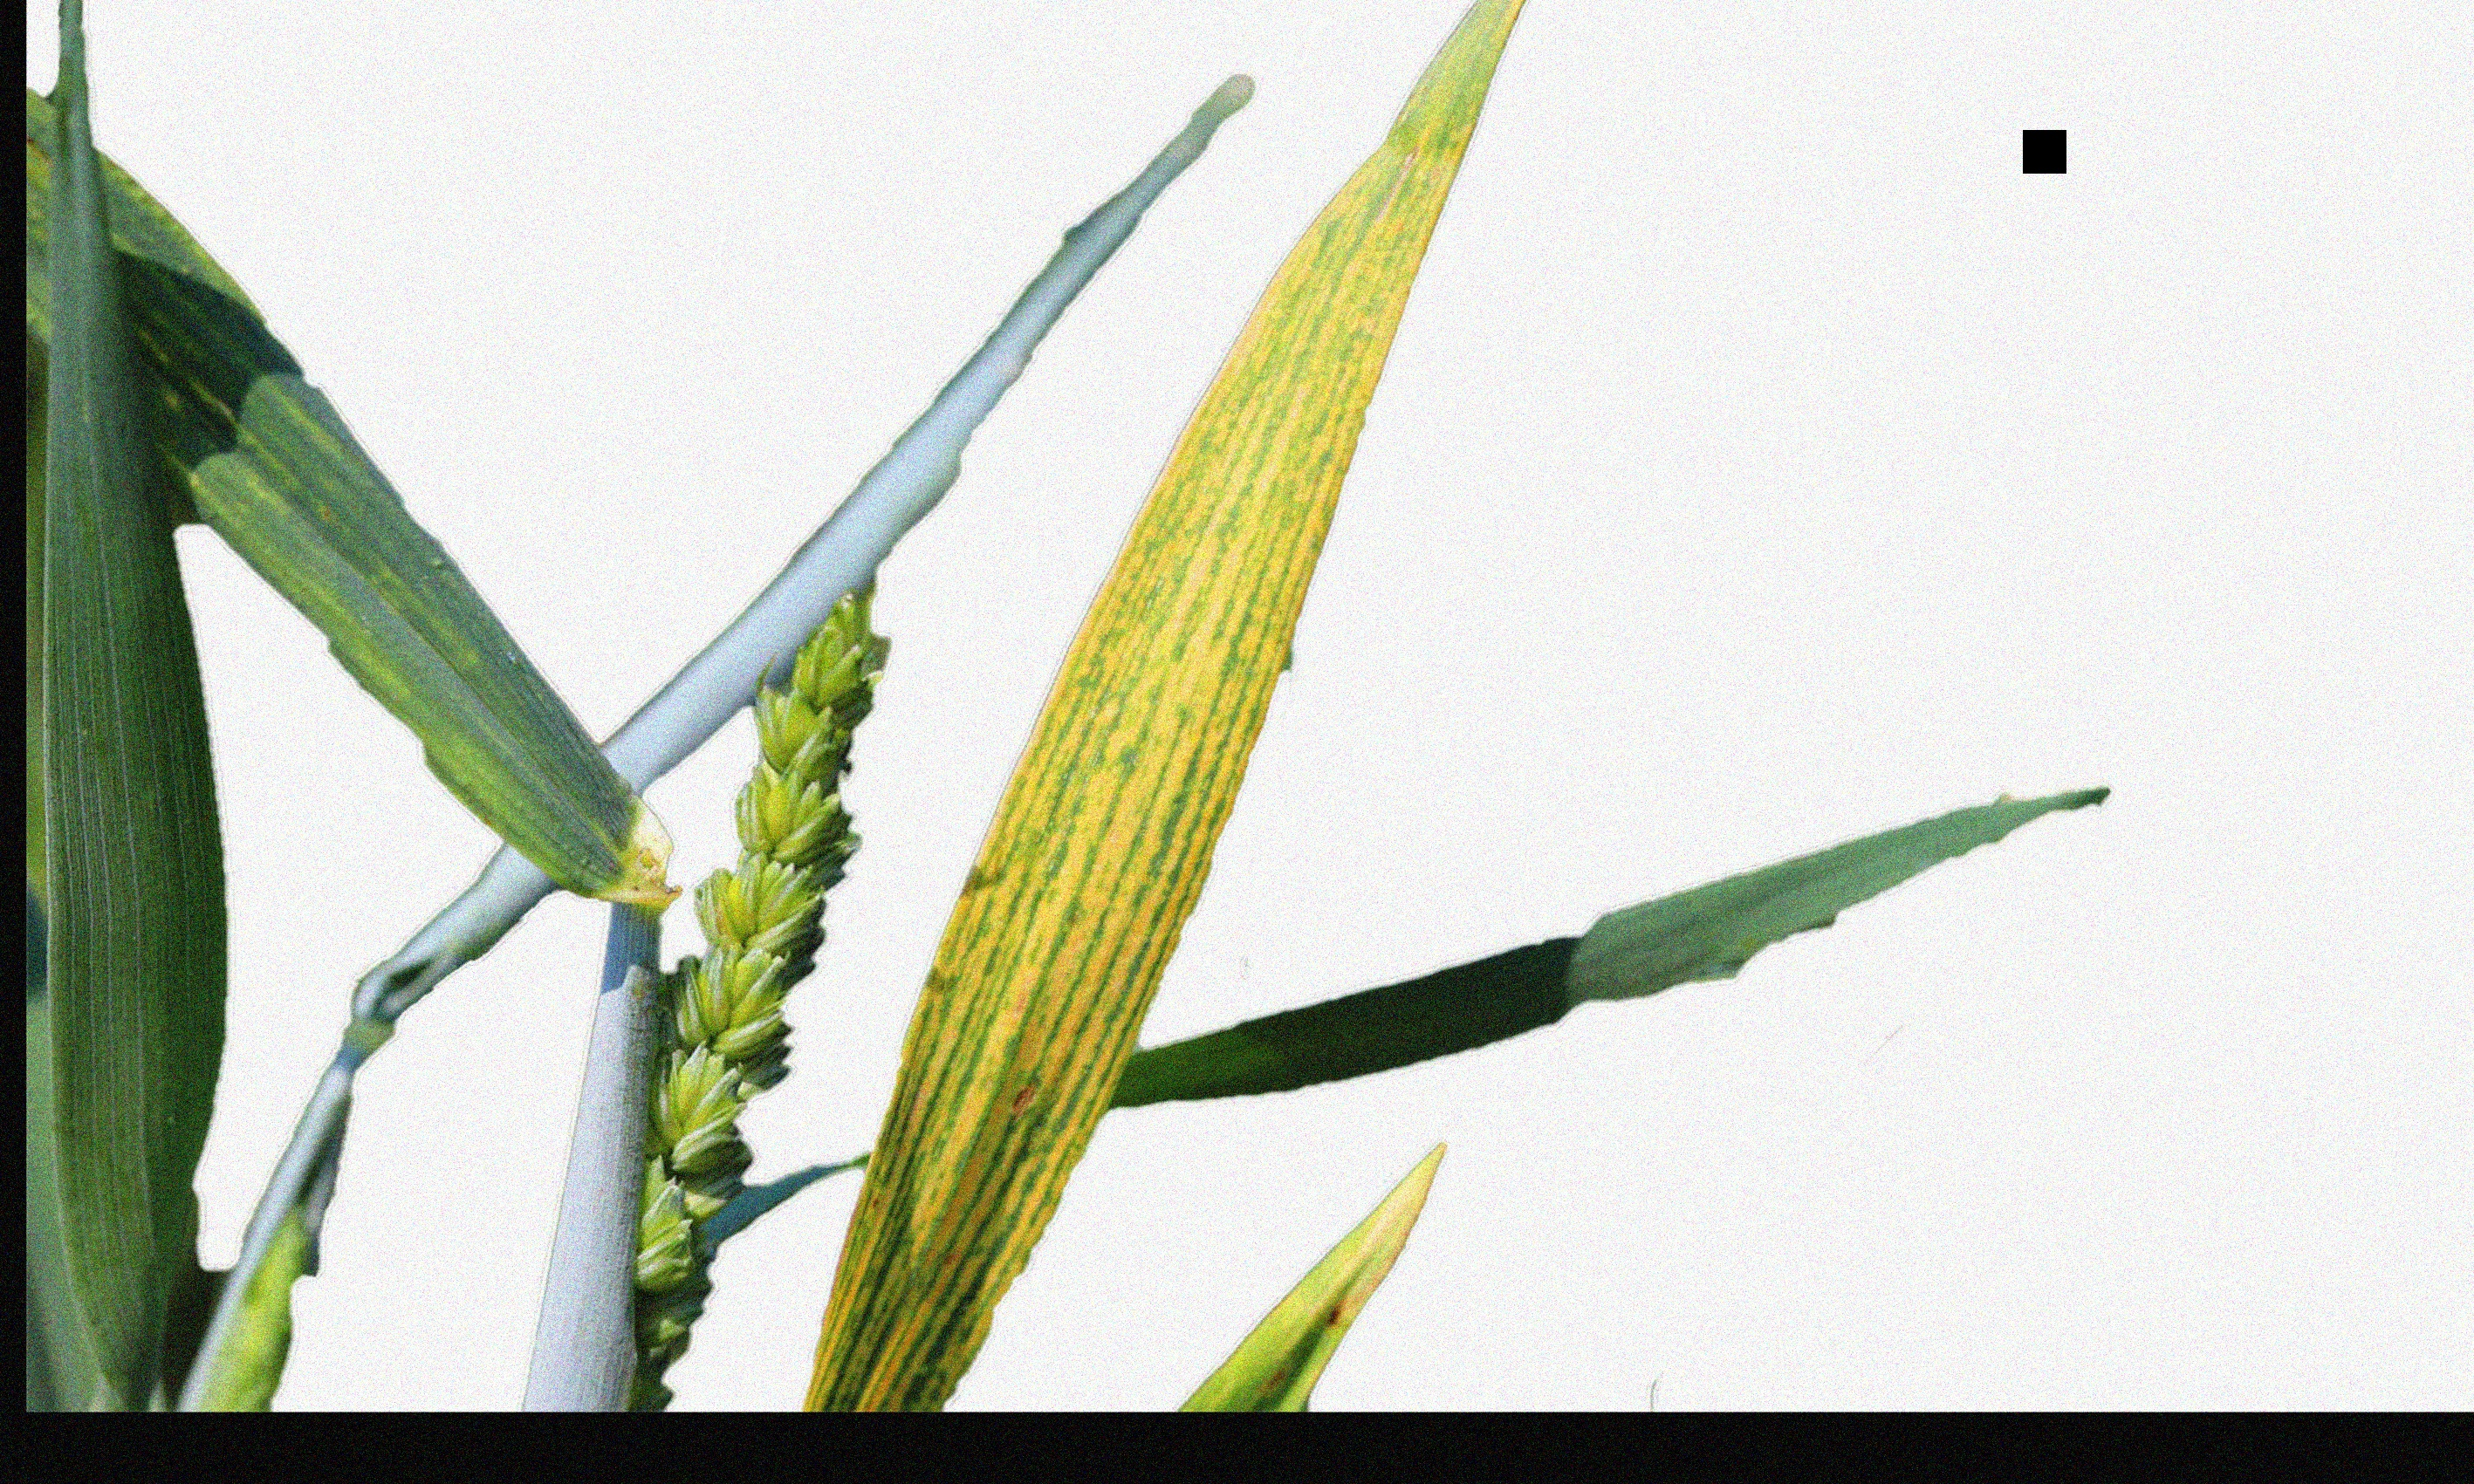wheat: (603, 541, 908, 1380)
